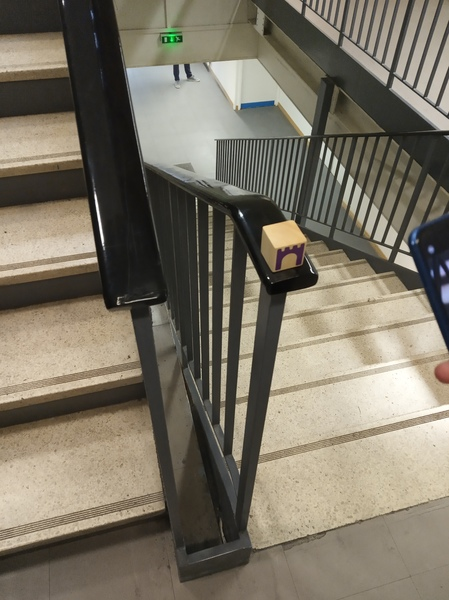violet: (256, 217, 311, 272)
